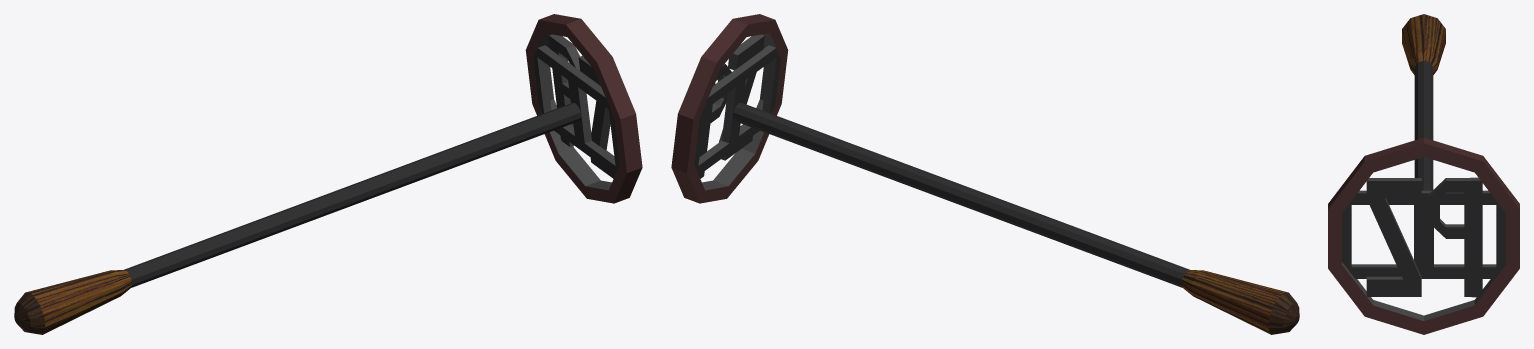
Rendered from WorldItem_BrandingIron.fbx.
3 renders of one model, left to right at view 1: azimuth 30°, elevation 25°; view 2: azimuth 150°, elevation 25°; view 3: azimuth 270°, elevation 25°, orthographic.
Parts seen in each view (by area): view 1: ZomboidBrandingIron; view 2: ZomboidBrandingIron; view 3: ZomboidBrandingIron.
Boxes of the visible parts, box(x1,y1,x2,y2) form: ZomboidBrandingIron: box(14, 14, 642, 334); ZomboidBrandingIron: box(671, 14, 1299, 334); ZomboidBrandingIron: box(1328, 14, 1519, 334).
Size of the model in its own units: 0.4346 by 0.129 by 0.1218.
